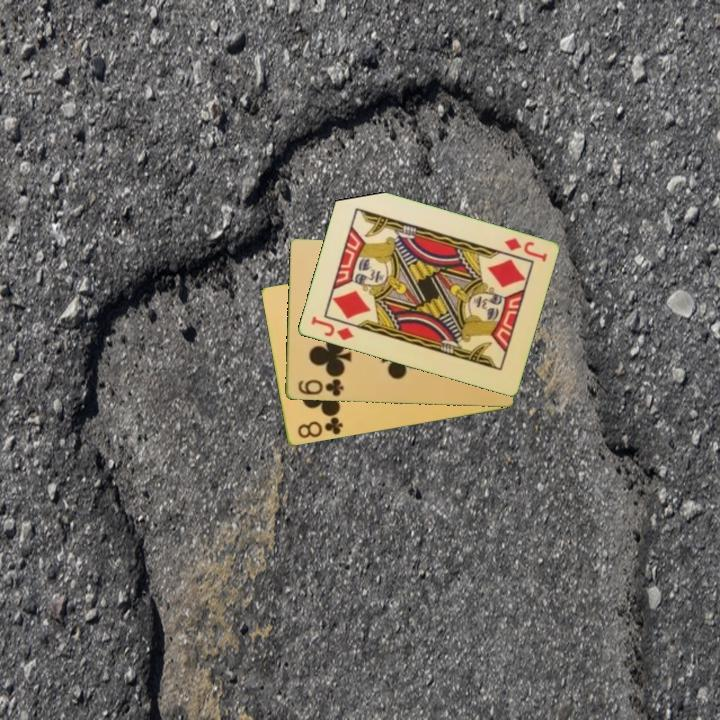6c: (294, 376, 346, 399)
8c: (294, 412, 345, 442)
Jd: (500, 235, 550, 265), (307, 313, 356, 343)
